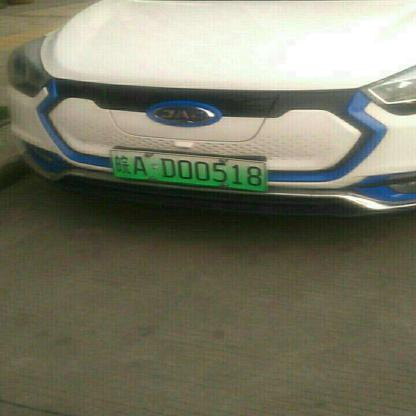lp: (111, 151, 263, 189)
